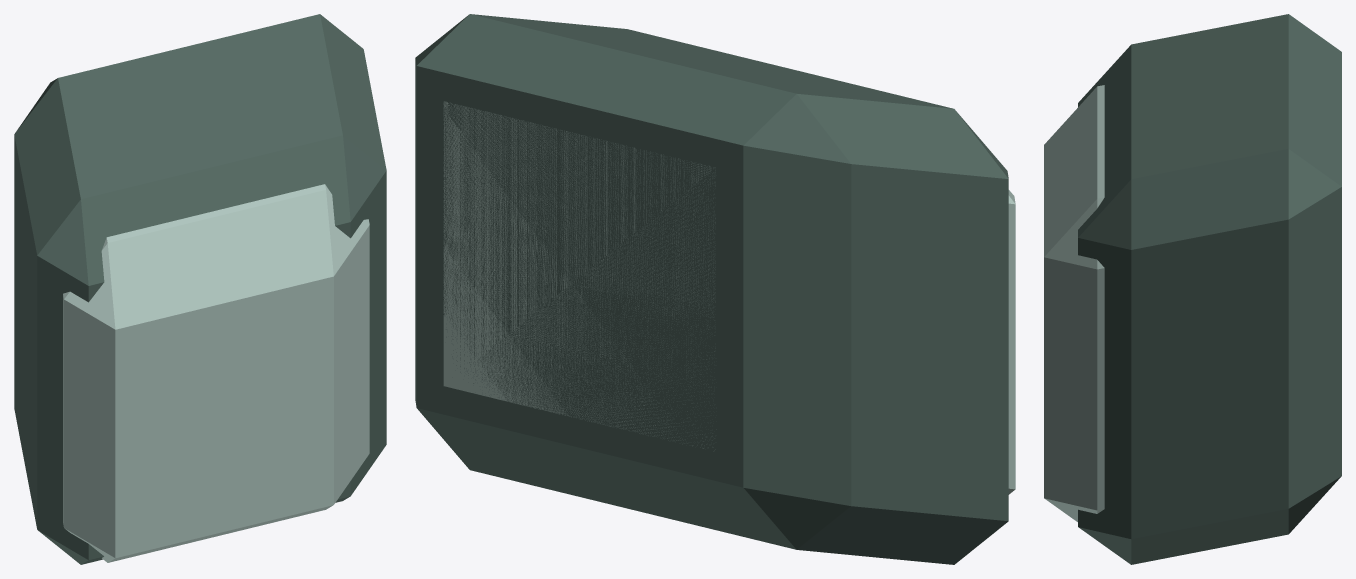
The model's file is Terrain_Block1x1.gltf.
3 renders of one model, left to right at view 1: azimuth 30°, elevation 25°; view 2: azimuth 150°, elevation 25°; view 3: azimuth 270°, elevation 25°, orthographic. The views are drawn at different scales.
Parts seen in each view (by area): view 1: Terrain_Block1x1_baked; view 2: Terrain_Block1x1_baked; view 3: Terrain_Block1x1_baked.
Part boxes in pixels (left/top/right/bottom): Terrain_Block1x1_baked: left=14, top=14, right=386, bottom=564; Terrain_Block1x1_baked: left=415, top=14, right=1015, bottom=564; Terrain_Block1x1_baked: left=1044, top=14, right=1341, bottom=564.
Size of the model in its own units: 1.15 by 1.15 by 0.7.
